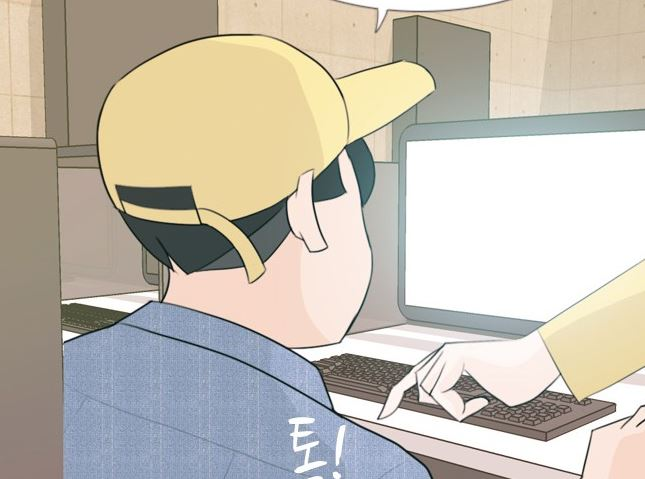hat: (96, 32, 437, 217)
